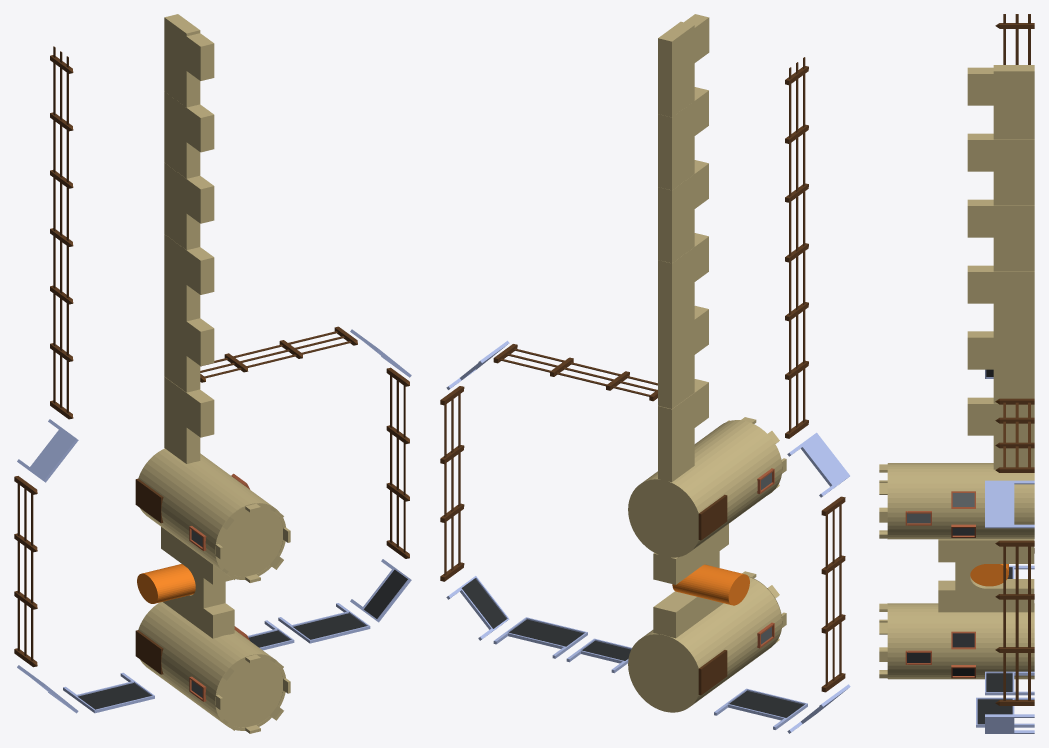
File: castle-hill-0.obj
3 renders of one model, left to right at view 1: azimuth 30°, elevation 25°; view 2: azimuth 150°, elevation 25°; view 3: azimuth 270°, elevation 25°, orthographic. The views are drawn at different scales.
Visible parts, largest first — view 1: group_0_12759680, group_0_6175260, group_0_11452141, group_0_2829873, group_0_16089887; view 2: group_0_12759680, group_0_6175260, group_0_11452141, group_0_2829873, group_0_16089887; view 3: group_0_12759680, group_0_6175260, group_0_11452141, group_0_2829873, group_0_11558716, group_0_6383466, group_0_16089887.
Boxes of the visible parts, left/top/right/bottom form: group_0_12759680: left=138, top=14, right=290, bottom=733; group_0_6175260: left=14, top=46, right=409, bottom=674; group_0_11452141: left=17, top=329, right=411, bottom=713; group_0_2829873: left=78, top=569, right=407, bottom=709; group_0_16089887: left=137, top=564, right=195, bottom=603; group_0_12759680: left=628, top=14, right=786, bottom=712; group_0_6175260: left=440, top=57, right=845, bottom=695; group_0_11452141: left=446, top=340, right=850, bottom=733; group_0_2829873: left=461, top=578, right=804, bottom=717; group_0_16089887: left=672, top=564, right=749, bottom=605; group_0_12759680: left=879, top=65, right=1034, bottom=679; group_0_6175260: left=995, top=14, right=1034, bottom=705; group_0_11452141: left=976, top=369, right=1034, bottom=733; group_0_2829873: left=907, top=369, right=1012, bottom=724; group_0_11558716: left=905, top=491, right=975, bottom=678; group_0_6383466: left=907, top=493, right=974, bottom=535; group_0_16089887: left=970, top=564, right=1008, bottom=586.
Bounding box in the file's own units: 137 × 229 × 53.
